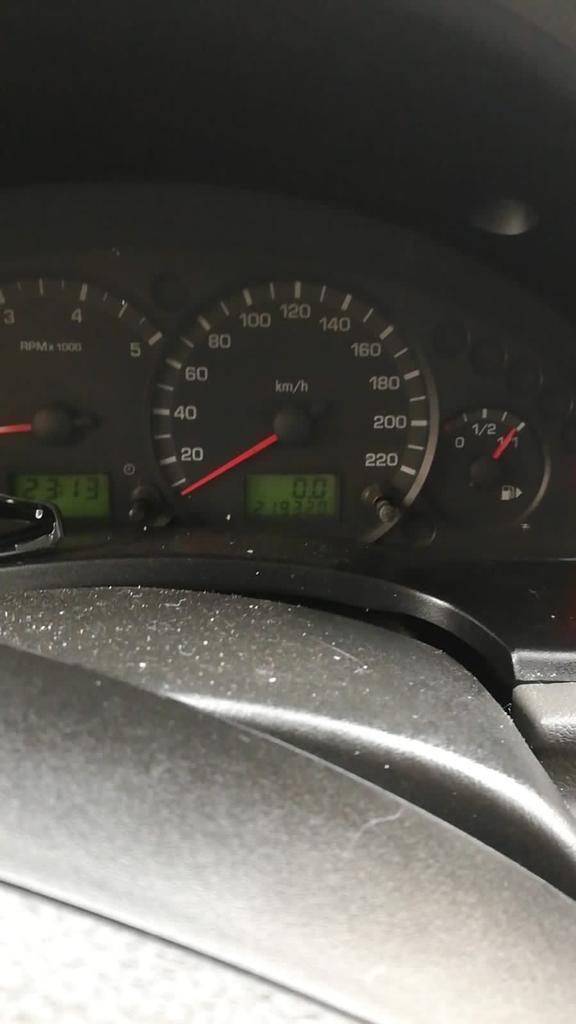,: (308, 493, 312, 498)
0: (291, 476, 306, 499), (311, 476, 326, 499), (315, 499, 326, 516)
1: (269, 499, 278, 515)
2: (252, 499, 263, 515), (304, 500, 313, 516)
3: (291, 499, 301, 517)
9: (278, 499, 289, 516)
odometer: (240, 467, 339, 524)
